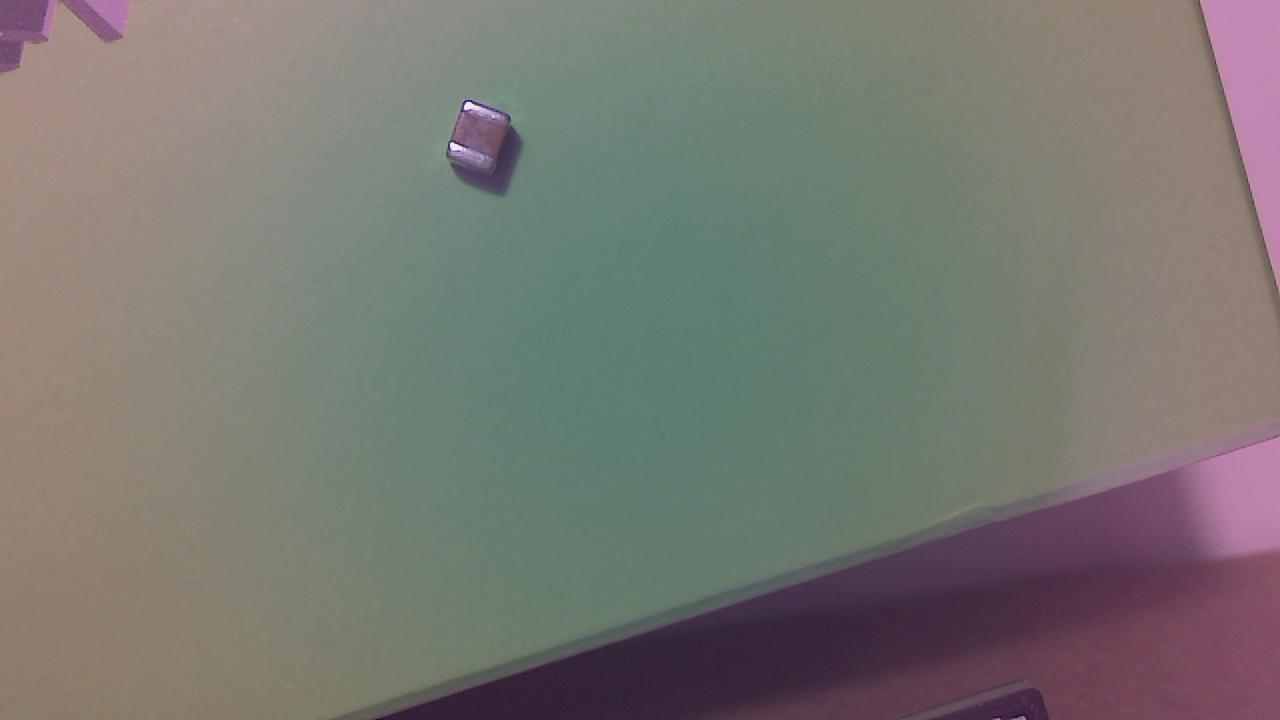Condensator: (447, 103, 524, 182)
